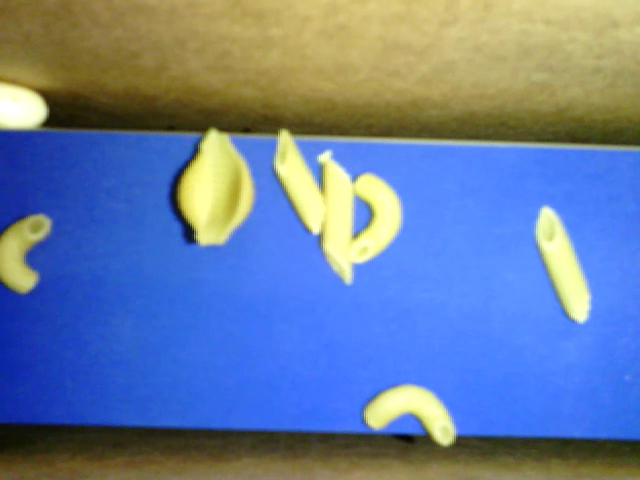elbow: (362, 382, 458, 447), (349, 172, 405, 264), (1, 212, 54, 294)
penne: (534, 204, 593, 325), (273, 128, 326, 236), (322, 154, 353, 284)
shell: (176, 126, 255, 247)
